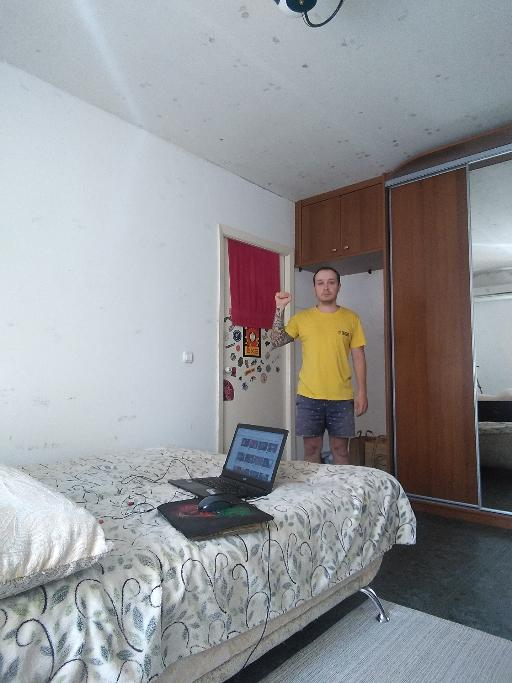fist: (273, 289, 293, 308)
no_gesture: (352, 393, 369, 417)
